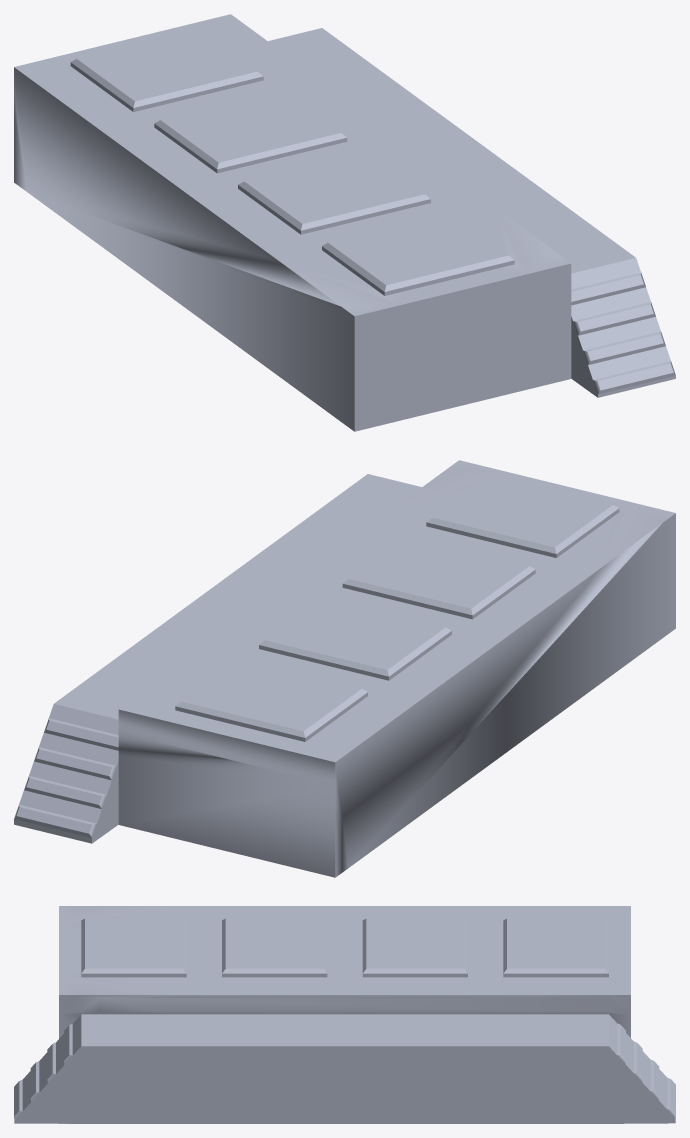
Rendered from Furniture_EXH1_CpG3.fbx.
The picture shows the model from 3 angles, top to bottom: view 1: azimuth 30°, elevation 25°; view 2: azimuth 150°, elevation 25°; view 3: azimuth 270°, elevation 25°; orthographic projection. The views are drawn at different scales.
Parts seen in each view (by area): view 1: pCube1; view 2: pCube1; view 3: pCube1.
Boxes of the visible parts, x1=… form: pCube1: x1=14, y1=14, x2=675, y2=431; pCube1: x1=14, y1=460, x2=675, y2=877; pCube1: x1=14, y1=906, x2=675, y2=1123.
Bounding box in the file's own units: 109 × 43.72 × 253.
